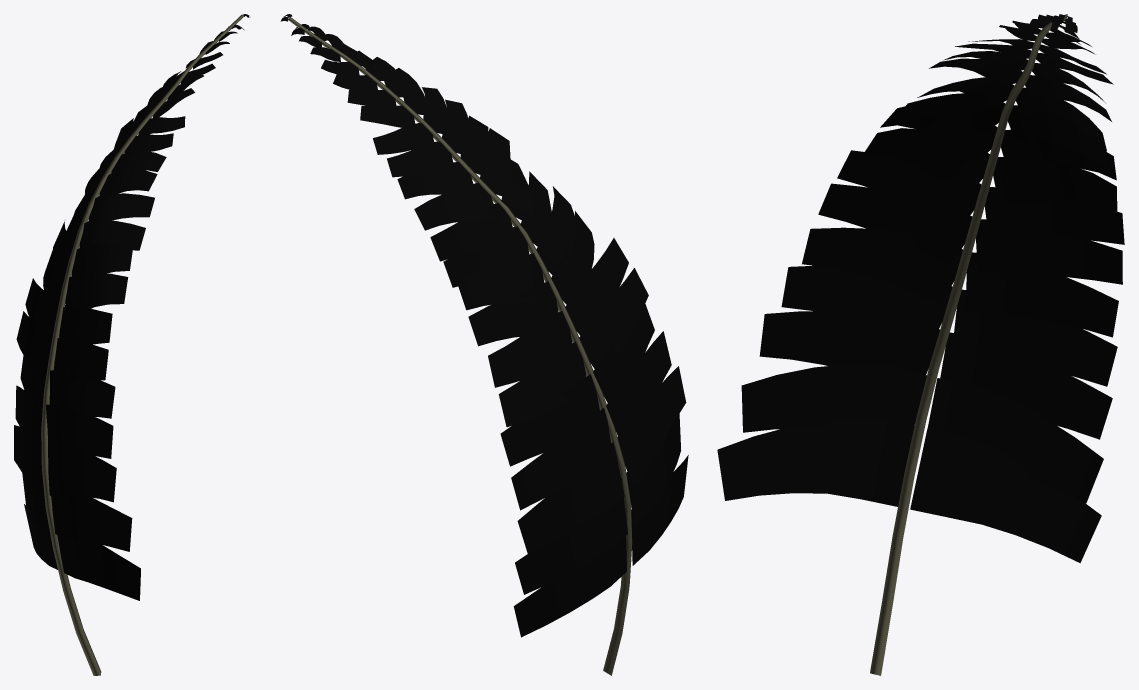
File: Vegetation_Fern_Single.fbx
The picture shows the model from 3 angles, left to right: view 1: azimuth 30°, elevation 25°; view 2: azimuth 150°, elevation 25°; view 3: azimuth 270°, elevation 25°; orthographic projection. The views are drawn at different scales.
Visible parts, largest first — view 1: Vegetation_Fern_Single; view 2: Vegetation_Fern_Single; view 3: Vegetation_Fern_Single.
Boxes of the visible parts, box(x1,y1,x2,y2) form: Vegetation_Fern_Single: box(14, 14, 249, 675); Vegetation_Fern_Single: box(280, 14, 688, 675); Vegetation_Fern_Single: box(717, 14, 1124, 675).
Bounding box in the file's own units: 53.33 × 113 × 51.59.
